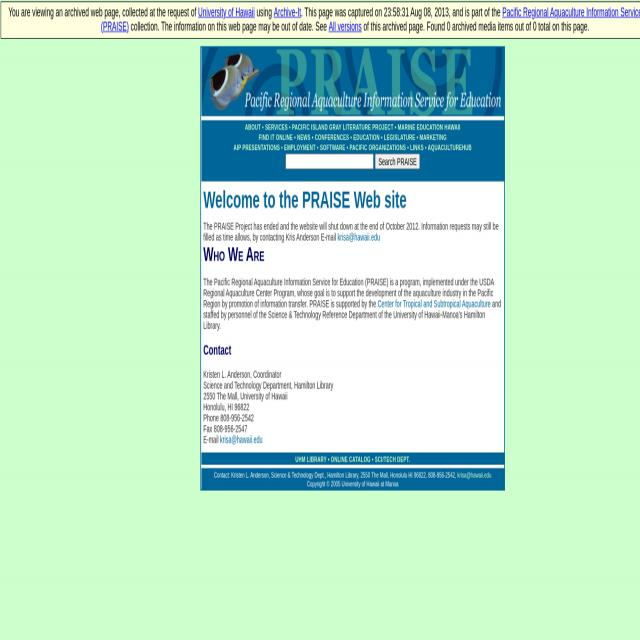button: (374, 152, 420, 168)
field: (285, 152, 373, 168)
